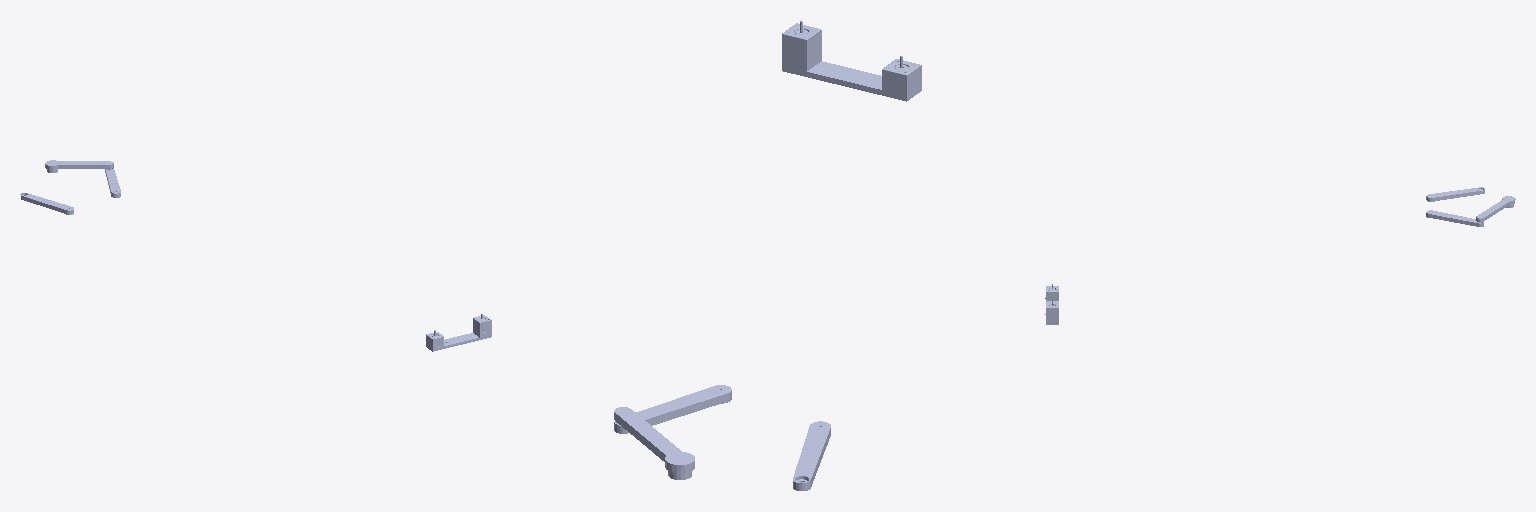
The robot description file, URDF, robot "Main_Assembly_V3_URDF":
<?xml version="1.0" encoding="utf-8"?>
<!-- This URDF was automatically created by SolidWorks to URDF Exporter! Originally created by Stephen Brawner (brawner@gmail.com) 
     Commit Version: 1.6.0-4-g7f85cfe  Build Version: 1.6.7995.38578
     For more information, please see http://wiki.ros.org/sw_urdf_exporter -->
<robot
  name="Main_Assembly_V3_URDF">
  <link
    name="base_link">
    <inertial>
      <origin
        xyz="0.083168982239769 0.0475041002838896 0.101771798173962"
        rpy="0 0 0" />
      <mass
        value="0.965408329881284" />
      <inertia
        ixx="0.00121438201472187"
        ixy="-0.000126878243464914"
        ixz="-1.48870080286014E-05"
        iyy="0.00400274535536562"
        iyz="-2.18806706584243E-05"
        izz="0.00309937571143598" />
    </inertial>
    <visual>
      <origin
        xyz="0 0 0"
        rpy="0 0 0" />
      <geometry>
        <mesh
          filename="package://Main_Assembly_1/meshes/base_link.STL" />
      </geometry>
      <material
        name="">
        <color
          rgba="0.792156862745098 0.819607843137255 0.933333333333333 1" />
      </material>
    </visual>
    <collision>
      <origin
        xyz="0 0 0"
        rpy="0 0 0" />
      <geometry>
        <mesh
          filename="package://Main_Assembly_1/meshes/base_link.STL" />
      </geometry>
    </collision>
  </link>
  <link
    name="Link_1">
    <inertial>
      <origin
        xyz="-1.5543E-14 -0.0084274 0.090145"
        rpy="0 0 0" />
      <mass
        value="0.10866" />
      <inertia
        ixx="0.00044201"
        ixy="1.0376E-20"
        ixz="2.0752E-19"
        iyy="0.00044965"
        iyz="5.1074E-07"
        izz="1.1894E-05" />
    </inertial>
    <visual>
      <origin
        xyz="0 0 0"
        rpy="0 0 0" />
      <geometry>
        <mesh
          filename="package://Main_Assembly_1/meshes/Link_1.STL" />
      </geometry>
      <material
        name="">
        <color
          rgba="0.79216 0.81961 0.93333 1" />
      </material>
    </visual>
    <collision>
      <origin
        xyz="0 0 0"
        rpy="0 0 0" />
      <geometry>
        <mesh
          filename="package://Main_Assembly_1/meshes/Link_1.STL" />
      </geometry>
    </collision>
  </link>
  <joint
    name="Joint_1"
    type="revolute">
    <origin
      xyz="0.22303 -0.17462 0.12681"
      rpy="-1.5853 -0.016051 -0.40717" />
    <parent
      link="base_link" />
    <child
      link="Link_1" />
    <axis
      xyz="0 1 0" />
    <limit
      lower="-3.14159"
      upper="3.14159"
      effort="10"
      velocity="3.14" />
  </joint>
  <link
    name="Link_3">
    <inertial>
      <origin
        xyz="-0.102619519713433 -0.0275712043613897 -2.58860029782593E-05"
        rpy="0 0 0" />
      <mass
        value="0.107515397534699" />
      <inertia
        ixx="1.44996387378322E-05"
        ixy="2.84941765913835E-06"
        ixz="-2.76042428413505E-07"
        iyy="0.000519519337303352"
        iyz="8.02582452169293E-09"
        izz="0.000512464324053293" />
    </inertial>
    <visual>
      <origin
        xyz="0 0 0"
        rpy="0 0 0" />
      <geometry>
        <mesh
          filename="package://Main_Assembly_1/meshes/Link_3.STL" />
      </geometry>
      <material
        name="">
        <color
          rgba="0.792156862745098 0.819607843137255 0.933333333333333 1" />
      </material>
    </visual>
    <collision>
      <origin
        xyz="0 0 0"
        rpy="0 0 0" />
      <geometry>
        <mesh
          filename="package://Main_Assembly_1/meshes/Link_3.STL" />
      </geometry>
    </collision>
  </link>
  <joint
    name="Joint_3"
    type="revolute">
    <origin
      xyz="0 0 0.2"
      rpy="0 0.15538 0" />
    <parent
      link="Link_1" />
    <child
      link="Link_3" />
    <axis
      xyz="0 1 0" />
    <limit
      lower="-3.14159"
      upper="3.14159"
      effort="10"
      velocity="3.14" />
  </joint>
  <link
    name="Endeffector">
    <inertial>
      <origin
        xyz="-1.1296519275561E-14 0.0148142908485712 -2.94347879403745E-14"
        rpy="0 0 0" />
      <mass
        value="0.0288633825048563" />
      <inertia
        ixx="4.37460641089228E-06"
        ixy="-1.65436122510606E-22"
        ixz="-4.2351647362715E-22"
        iyy="4.41970544605611E-06"
        iyz="-3.70576914423756E-22"
        izz="4.37460641089228E-06" />
    </inertial>
    <visual>
      <origin
        xyz="0 0 0"
        rpy="0 0 0" />
      <geometry>
        <mesh
          filename="package://Main_Assembly_1/meshes/Endeffector.STL" />
      </geometry>
      <material
        name="">
        <color
          rgba="0.792156862745098 0.819607843137255 0.933333333333333 1" />
      </material>
    </visual>
    <collision>
      <origin
        xyz="0 0 0"
        rpy="0 0 0" />
      <geometry>
        <mesh
          filename="package://Main_Assembly_1/meshes/Endeffector.STL" />
      </geometry>
    </collision>
  </link>
  <joint
    name="Joint_5"
    type="revolute">
    <origin
      xyz="-0.2 -0.0063467 -0.00014871"
      rpy="-3.1416 -1.5579 0" />
    <parent
      link="Link_3" />
    <child
      link="Endeffector" />
    <axis
      xyz="0 1 0" />
    <limit
      lower="-3.14159"
      upper="3.14159"
      effort="10"
      velocity="3.14" />
  </joint>
  <link
    name="Link_2">
    <inertial>
      <origin
        xyz="-4.29933866286092E-14 -0.00900607153307129 0.0901453102630915"
        rpy="0 0 0" />
      <mass
        value="0.108656751757487" />
      <inertia
        ixx="0.000442013586531157"
        ixy="1.48230765769503E-21"
        ixz="-4.63327022148102E-19"
        iyy="0.000449653935541168"
        iyz="5.10742428231393E-07"
        izz="1.18942776182149E-05" />
    </inertial>
    <visual>
      <origin
        xyz="0 0 0"
        rpy="0 0 0" />
      <geometry>
        <mesh
          filename="package://Main_Assembly_1/meshes/Link_2.STL" />
      </geometry>
      <material
        name="">
        <color
          rgba="0.792156862745098 0.819607843137255 0.933333333333333 1" />
      </material>
    </visual>
    <collision>
      <origin
        xyz="0 0 0"
        rpy="0 0 0" />
      <geometry>
        <mesh
          filename="package://Main_Assembly_1/meshes/Link_2.STL" />
      </geometry>
    </collision>
  </link>
  <joint
    name="Joint_2"
    type="revolute">
    <origin
      xyz="0.033931 -0.17377 0.1045"
      rpy="-1.5924 -0.0012905 0.37069" />
    <parent
      link="base_link" />
    <child
      link="Link_2" />
    <axis
      xyz="0 1 0" />
    <limit
      lower="-3.14159"
      upper="3.14159"
      effort="10"
      velocity="3.14" />
  </joint>
  <link
    name="Link_4">
    <inertial>
      <origin
        xyz="-0.088120146906434 0.0250425874491038 -2.99066327258402E-15"
        rpy="0 0 0" />
      <mass
        value="0.0932618314359105" />
      <inertia
        ixx="1.12888480832201E-05"
        ixy="2.71074632346948E-06"
        ixz="1.33407689192552E-19"
        iyy="0.000366978882286225"
        iyz="1.52465930505774E-20"
        izz="0.000360667554634805" />
    </inertial>
    <visual>
      <origin
        xyz="0 0 0"
        rpy="0 0 0" />
      <geometry>
        <mesh
          filename="package://Main_Assembly_1/meshes/Link_4.STL" />
      </geometry>
      <material
        name="">
        <color
          rgba="0.792156862745098 0.819607843137255 0.933333333333333 1" />
      </material>
    </visual>
    <collision>
      <origin
        xyz="0 0 0"
        rpy="0 0 0" />
      <geometry>
        <mesh
          filename="package://Main_Assembly_1/meshes/Link_4.STL" />
      </geometry>
    </collision>
  </link>
  <joint
    name="Joint_4"
    type="revolute">
    <origin
      xyz="0 -0.0036364 0.2"
      rpy="0 0.16756 -3.1416" />
    <parent
      link="Link_2" />
    <child
      link="Link_4" />
    <axis
      xyz="0 1 0" />
    <limit
      lower="-3.14159"
      upper="3.14159"
      effort="10"
      velocity="3.14" />
  </joint>

</robot>

--- What the picture shows (computed from the rendered views, not written in the file) ---
The picture shows the robot from 3 angles, left to right: view 1: azimuth 30°, elevation 25°; view 2: azimuth 150°, elevation 25°; view 3: azimuth 270°, elevation 25°; orthographic projection.
Model Main_Assembly_V3_URDF with 6 links and 5 joints (5 revolute), rooted at base_link, posed all joints at 0.
Visible links, largest first — view 1: base_link, Link_3; view 2: base_link, Link_3, Link_1, Link_2; view 3: none.
Link boxes in pixels (bbox=[...]): base_link: bbox=[426, 314, 491, 351]; Link_3: bbox=[45, 160, 113, 172]; base_link: bbox=[782, 20, 921, 101]; Link_3: bbox=[614, 407, 694, 479]; Link_1: bbox=[614, 385, 731, 433]; Link_2: bbox=[793, 421, 830, 490].
Size in the robot's own frame: 0.9633 by 1.76 by 0.1604 metres.
Meshes: 6 distinct files referenced, 5 mesh visuals loaded (5 binary STL); not drawn: 1 (reference not matched to a file when rendering).
